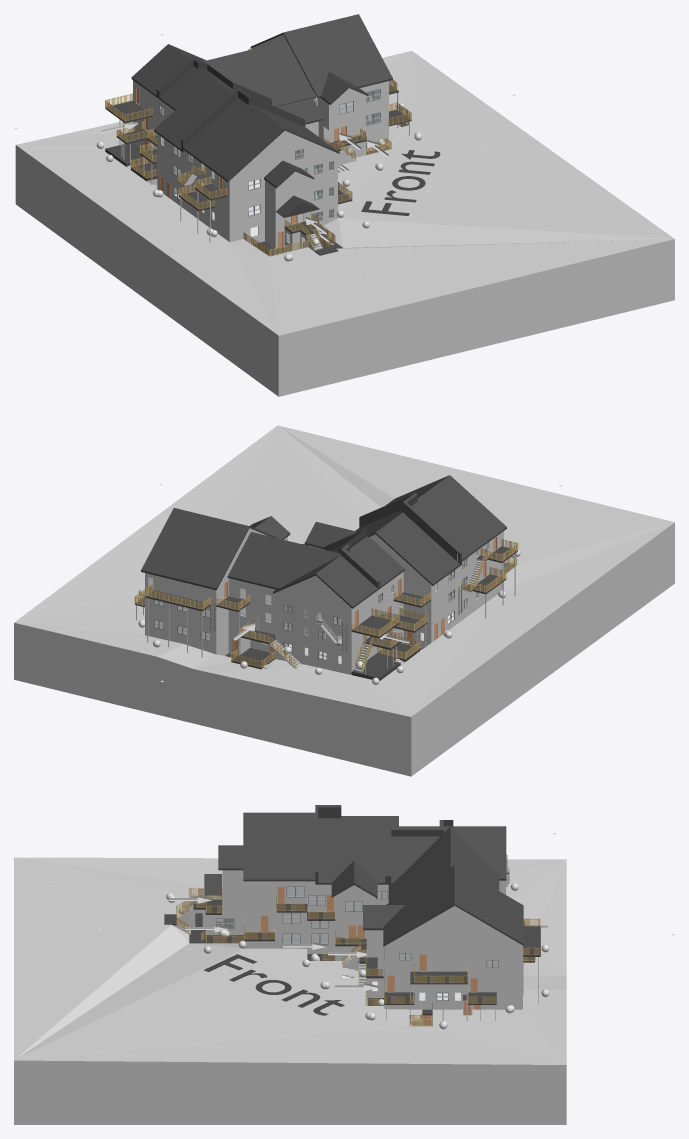
Rendered from house.glb.
3 renders of one model, top to bottom at view 1: azimuth 30°, elevation 25°; view 2: azimuth 150°, elevation 25°; view 3: azimuth 270°, elevation 25°, orthographic. The views are drawn at different scales.
Visible parts, largest first — view 1: Fake, Text; view 2: Fake; view 3: Fake, Text.
Part boxes in pixels (x1,y1,x2,y2): Fake: (15, 14, 674, 396); Text: (361, 150, 440, 215); Fake: (14, 425, 674, 776); Fake: (14, 805, 566, 1124); Text: (203, 954, 344, 1015).
Size of the model in its own units: 65.27 by 25.9 by 88.27.
